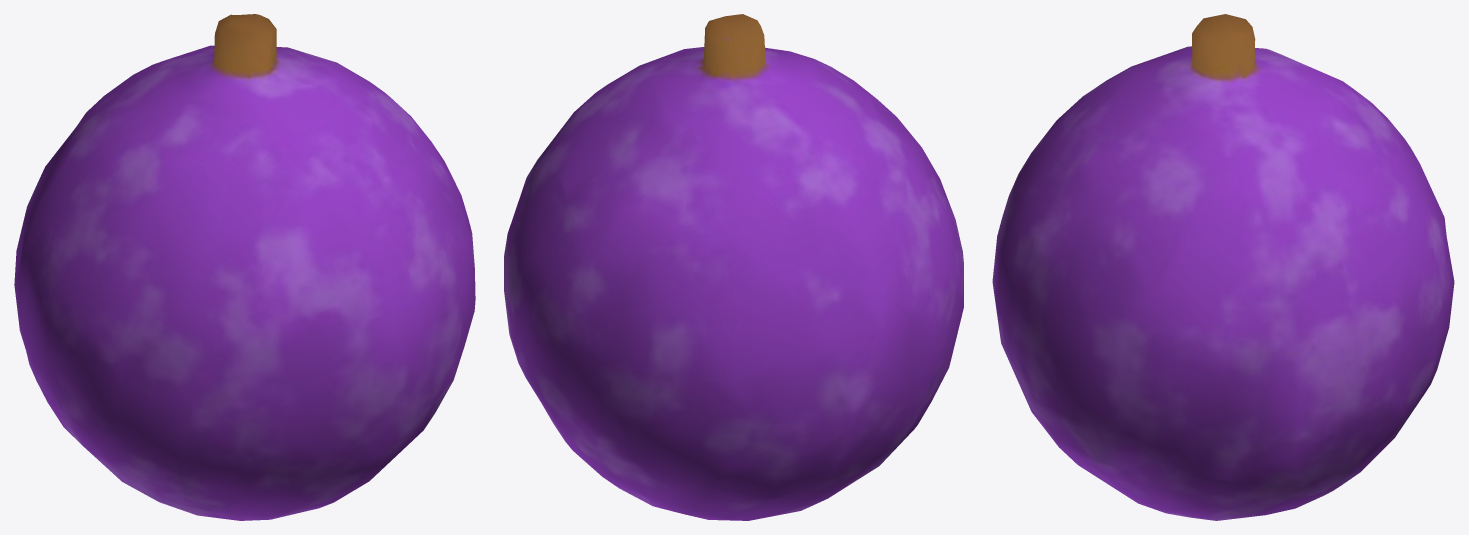
The model's file is grape.glb.
The picture shows the model from 3 angles, left to right: view 1: azimuth 30°, elevation 25°; view 2: azimuth 150°, elevation 25°; view 3: azimuth 270°, elevation 25°; orthographic projection.
Visible parts, largest first — view 1: tripo_node_9402274f-568f-463c-a383-23f46e93f705; view 2: tripo_node_9402274f-568f-463c-a383-23f46e93f705; view 3: tripo_node_9402274f-568f-463c-a383-23f46e93f705.
Part boxes in pixels (left/top/right/bottom): tripo_node_9402274f-568f-463c-a383-23f46e93f705: left=14, top=14, right=475, bottom=520; tripo_node_9402274f-568f-463c-a383-23f46e93f705: left=504, top=14, right=963, bottom=520; tripo_node_9402274f-568f-463c-a383-23f46e93f705: left=992, top=14, right=1454, bottom=520.
Size of the model in its own units: 0.8507 by 0.9774 by 0.8516.
1 material, 1 textured.
